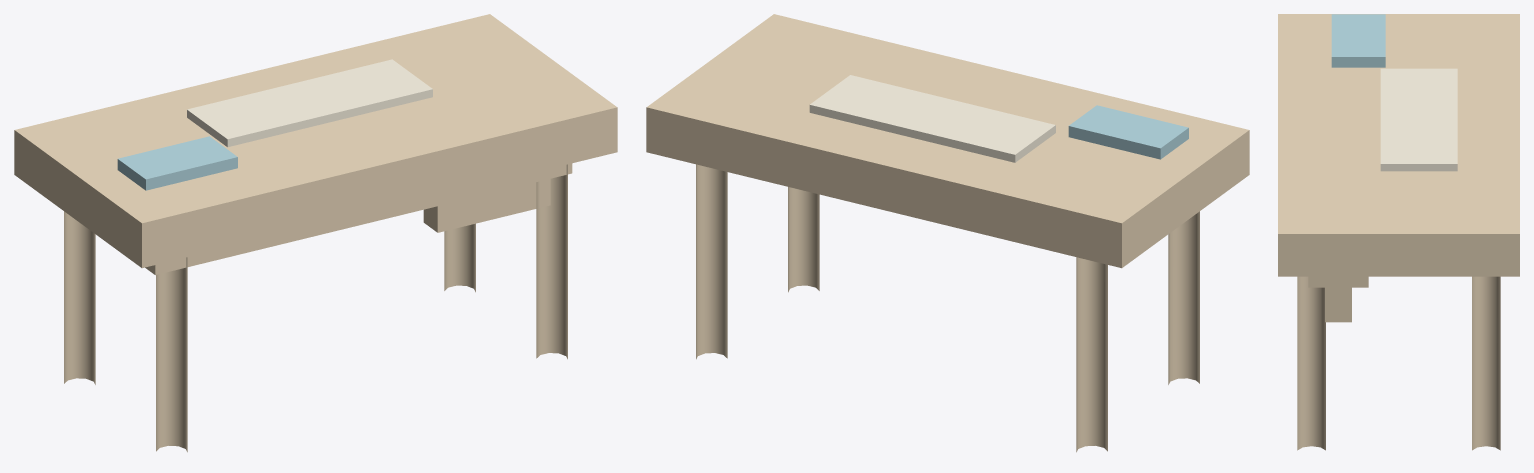
Rendered from desk.glb.
3 renders of one model, left to right at view 1: azimuth 30°, elevation 25°; view 2: azimuth 150°, elevation 25°; view 3: azimuth 270°, elevation 25°, orthographic. The views are drawn at different scales.
Visible parts, largest first — view 1: desk; view 2: desk; view 3: desk.
Boxes of the visible parts, x1,y1,x2,y2 form: desk: [14, 14, 617, 452]; desk: [646, 14, 1249, 452]; desk: [1278, 14, 1519, 450].
Bounding box in the file's own units: 1.55 × 0.8375 × 0.72.
